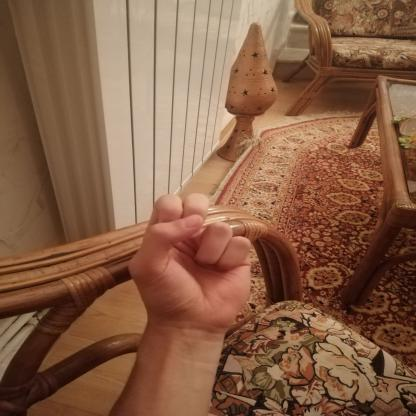QAAF: (117, 183, 268, 341)
